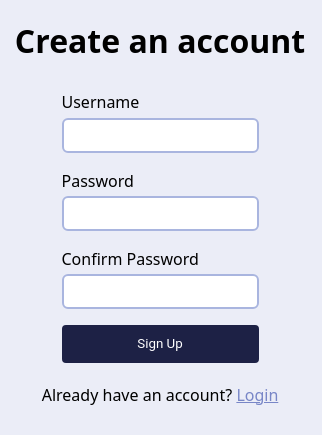
Scenario: CreateUserView › shows error when fetch throws
Type "whitney" into the field labelled "Username".
click(160, 135); type("whitney")  # box x1=62 y1=118 x2=258 y2=153
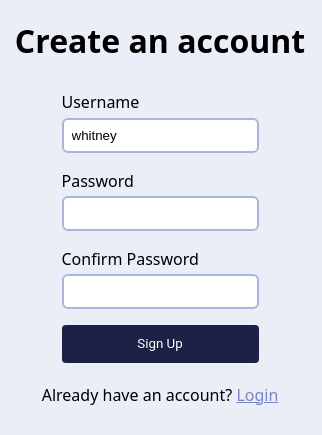
Type "password123" into the password field labelled "Password".
click(160, 213); type("password123")  # box x1=62 y1=196 x2=258 y2=231
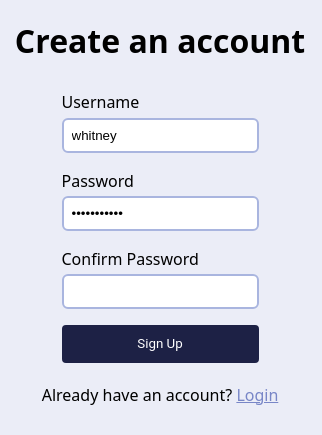
Type "password123" into the password field labelled "Confirm Password".
click(160, 292); type("password123")  # box x1=62 y1=274 x2=258 y2=309
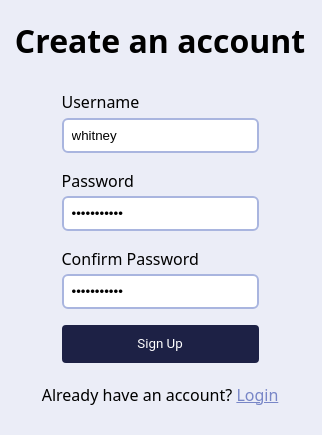
Click the button "Sign Up".
click(160, 344)  # box x1=62 y1=325 x2=258 y2=363
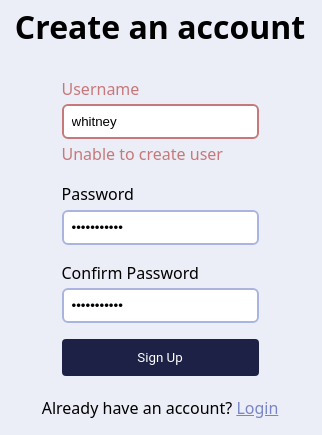
expect the text "Unable to create user" is shown: met, box x1=62 y1=143 x2=223 y2=165
